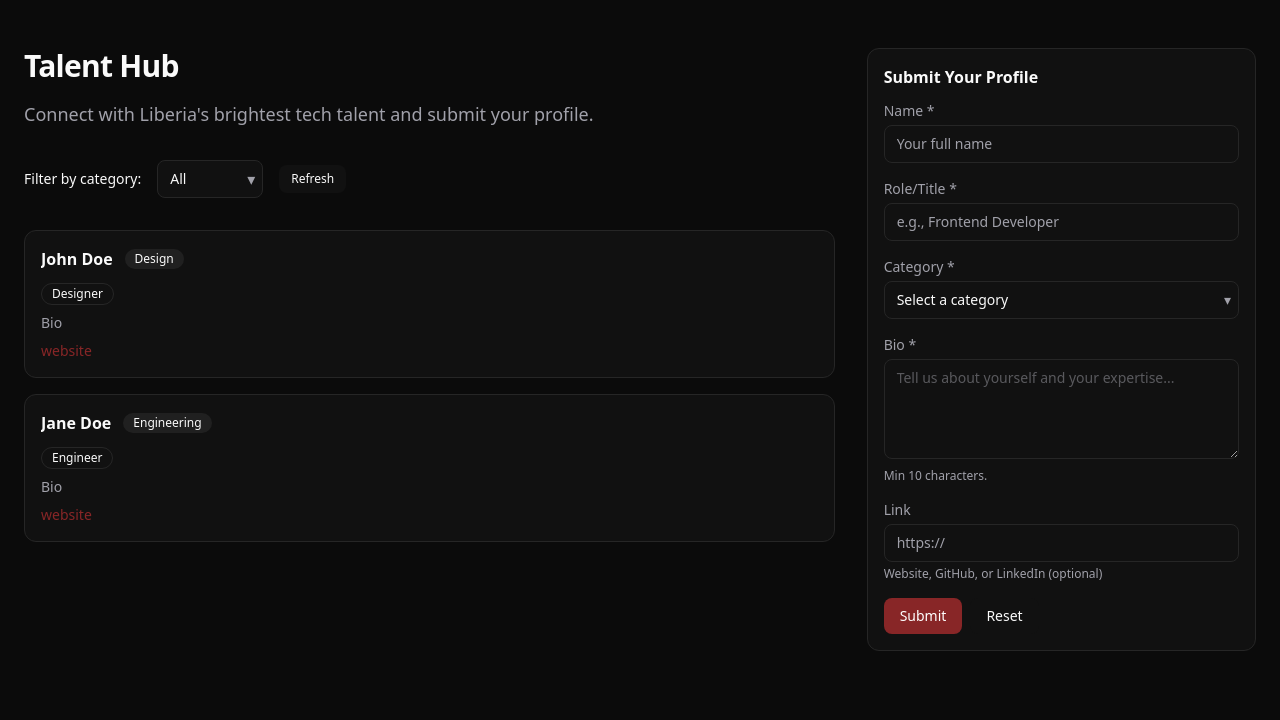
Test: Talent Hub › validates and submits new talent
The image size is (1280, 720).
Click the button "Submit" at (923, 616), box x1=884 y1=598 x2=962 y2=634
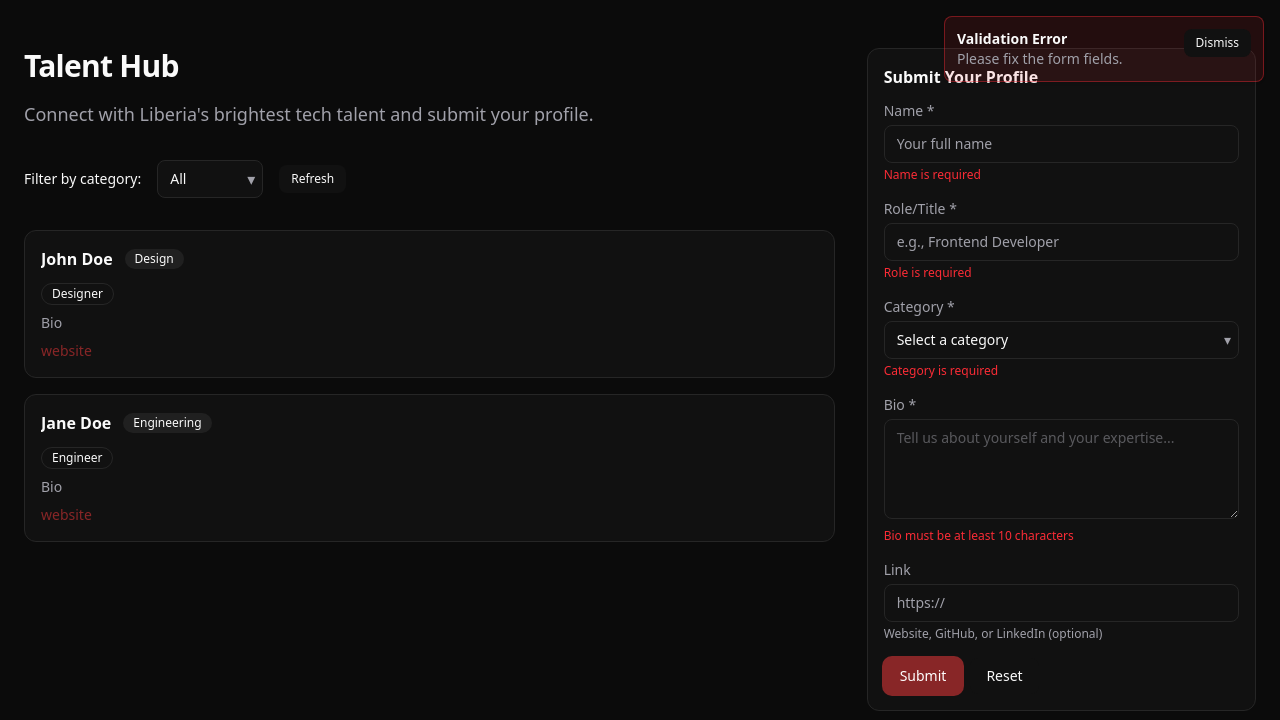
Check: the text "Name is required" is shown, box x1=884 y1=166 x2=981 y2=183
Check: the text "Role is required" is shown, box x1=884 y1=264 x2=972 y2=281
Type "New Person" into the field labelled "Name *" at (1061, 144), box x1=884 y1=125 x2=1239 y2=163
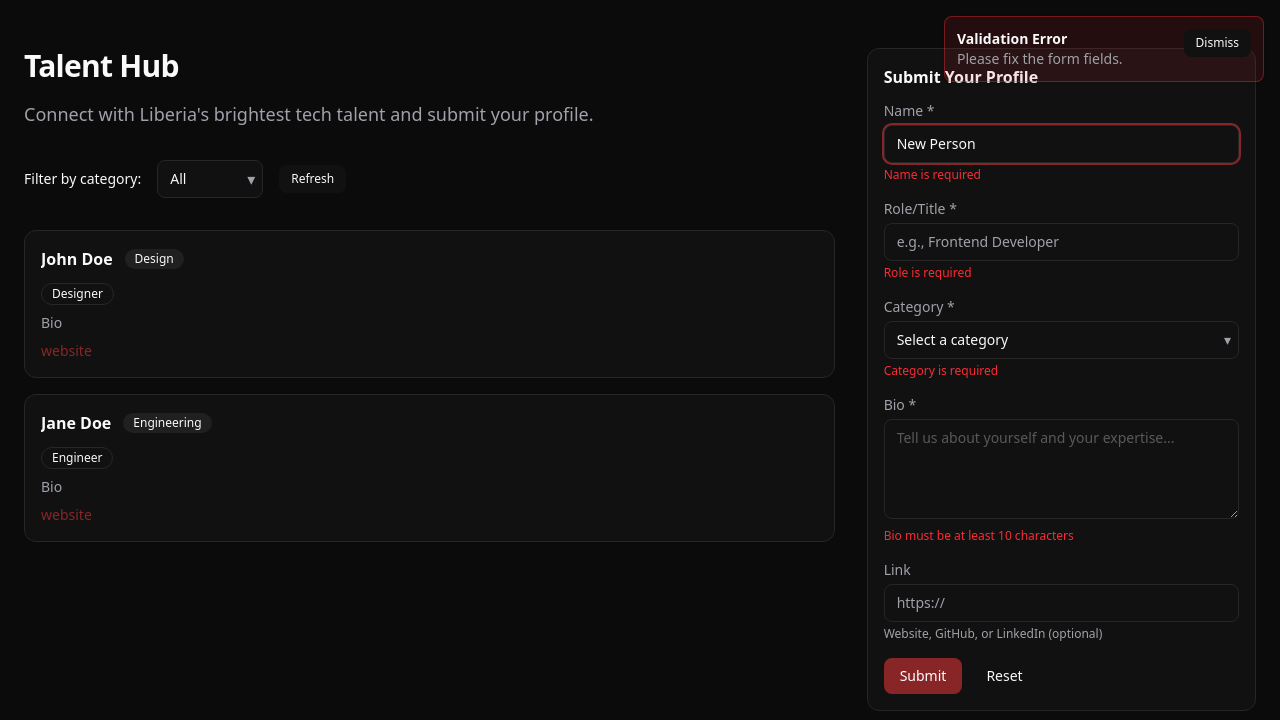
Type "Engineer" into the field labelled "Role/Title *" at (1061, 242), box x1=884 y1=223 x2=1239 y2=261
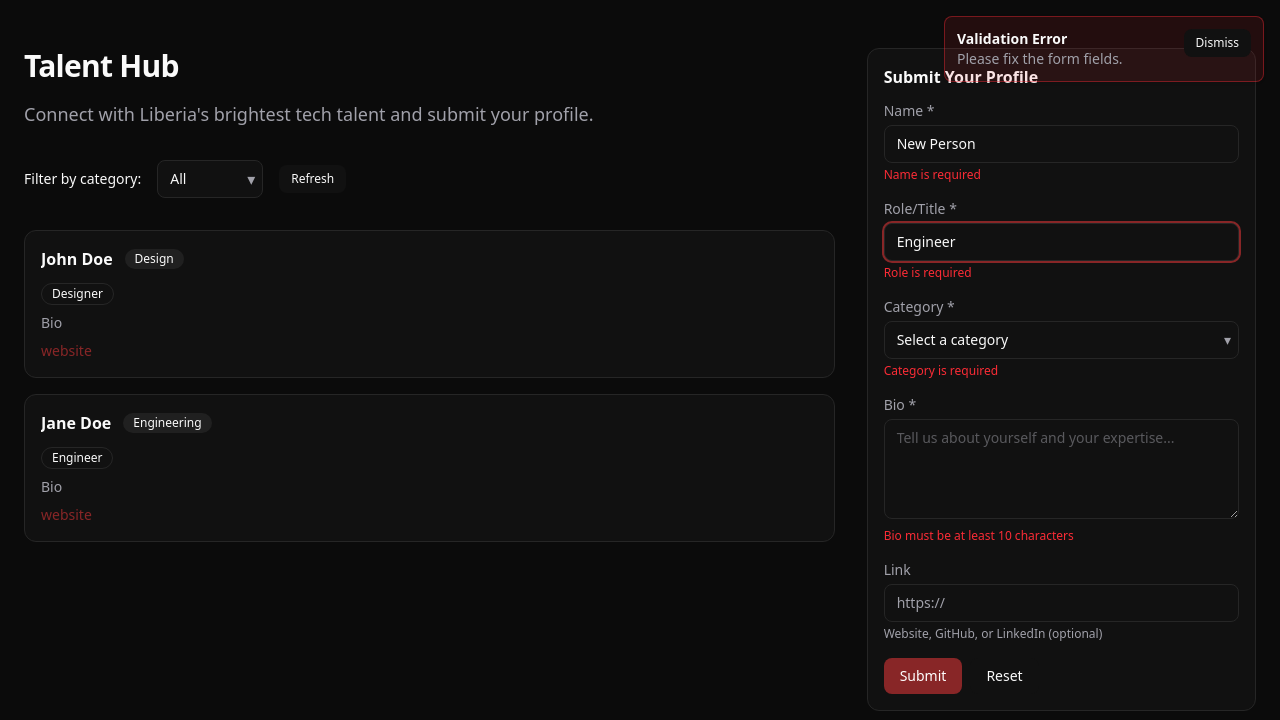
Select "Engineering" in the dropdown labelled "Category *" at (1061, 340), box x1=884 y1=321 x2=1239 y2=359
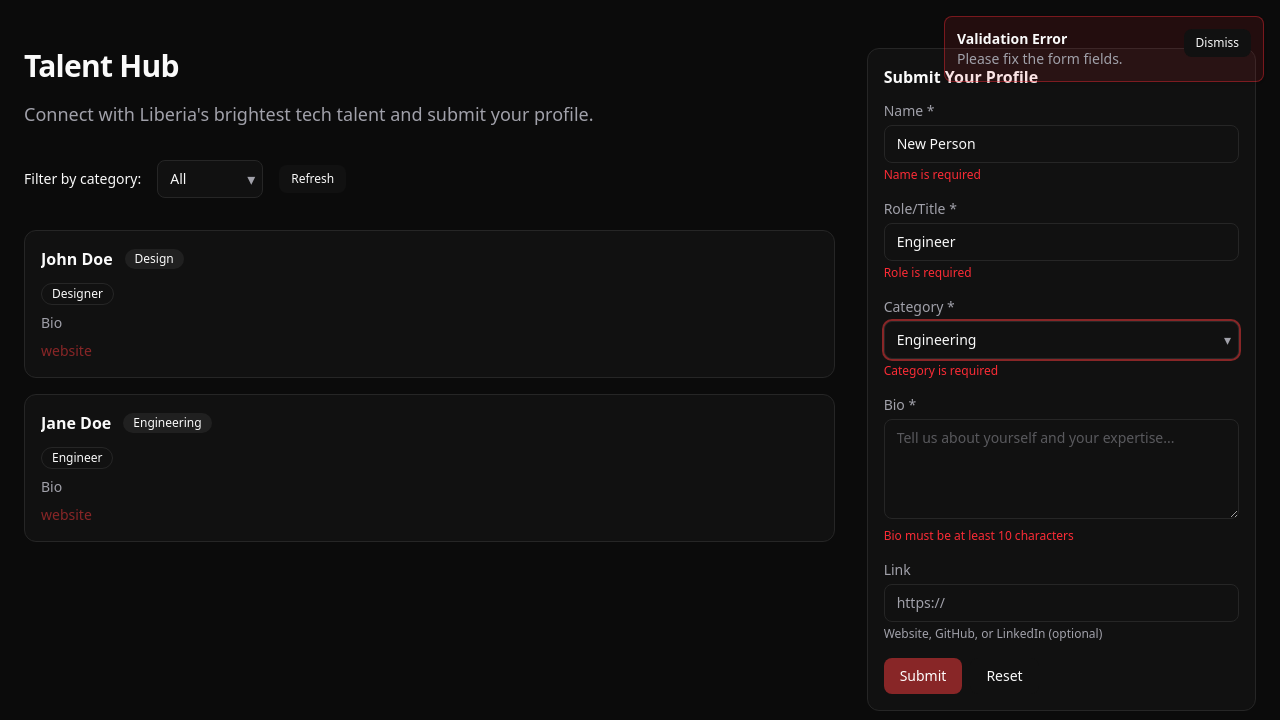
Type "This is a short bio that meets min length" into the text box labelled "Bio *" at (1061, 469), box x1=884 y1=419 x2=1239 y2=519
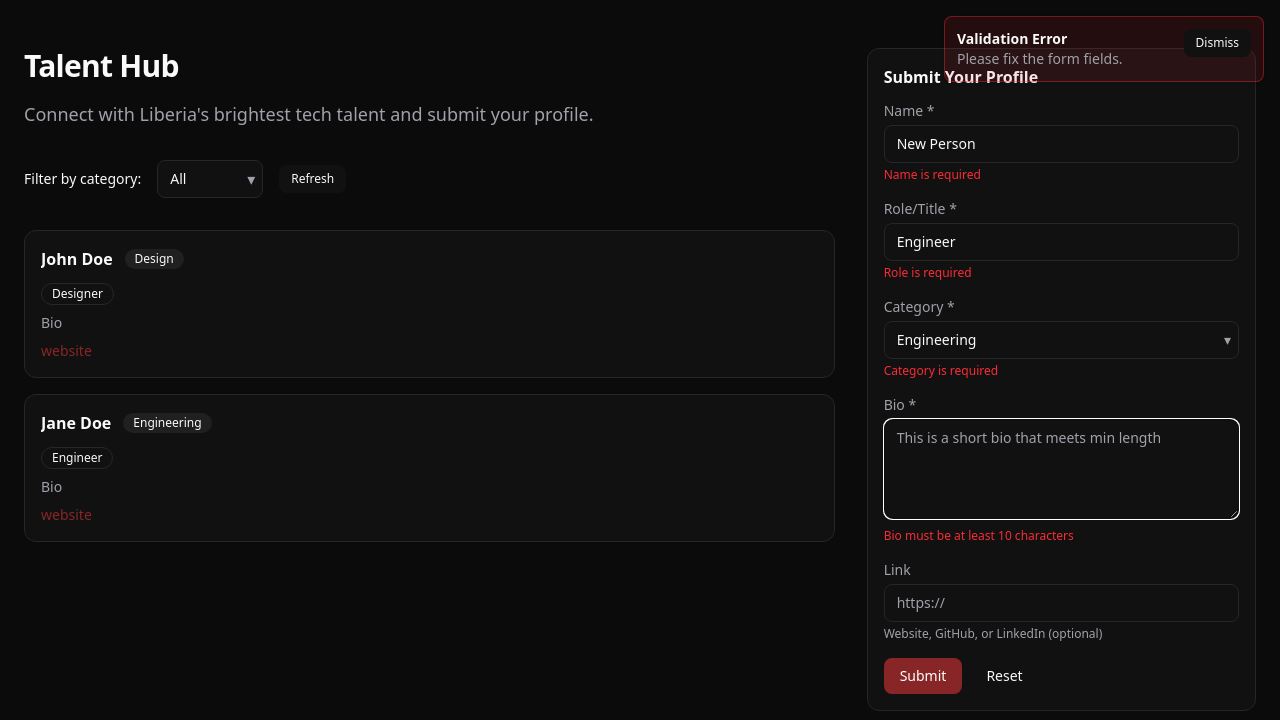
Click the button "Submit" at (923, 676), box x1=884 y1=658 x2=962 y2=694
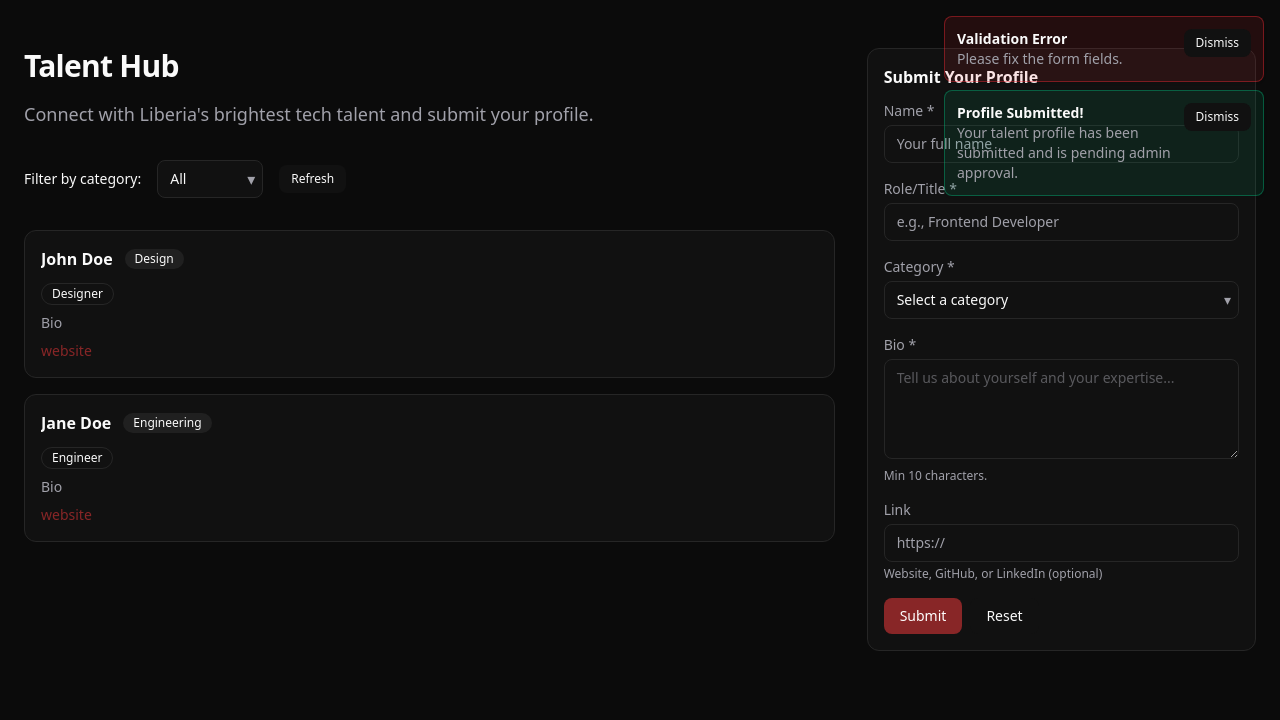
Check: the text "Profile Submitted!" is shown, box x1=957 y1=103 x2=1084 y2=122
